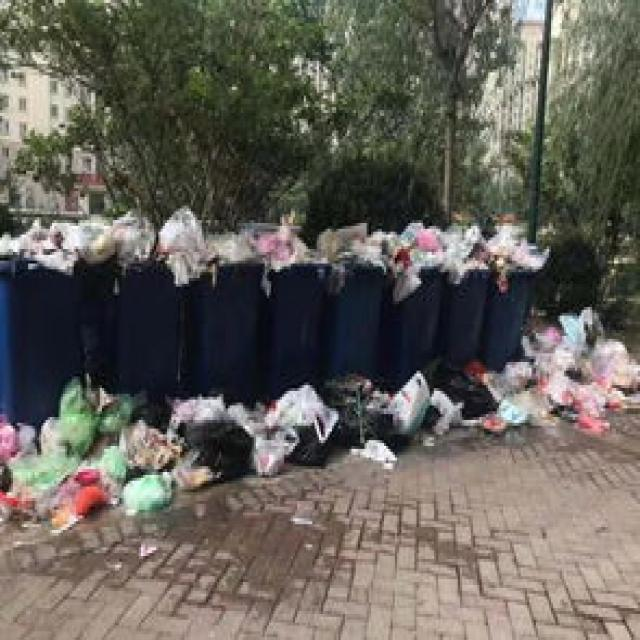garbage: (0, 304, 636, 536)
overflow: (89, 200, 182, 402), (0, 217, 80, 425), (258, 223, 326, 400), (315, 220, 386, 368), (200, 226, 258, 397), (486, 220, 549, 371), (386, 217, 443, 382), (443, 214, 490, 356)
